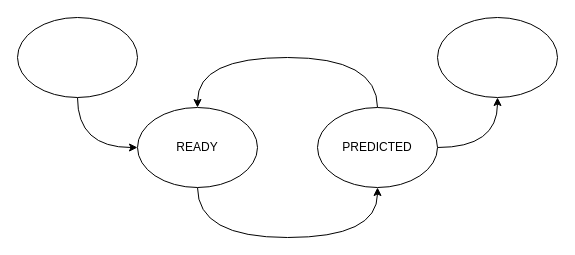
Some shapes in this 575 by 255 pixel diagram are drawn without their labels. Here are the shapes that lost their labels. From the top down, the box of each, then its label:
(16, 16, 138, 98): NEW
(436, 16, 558, 98): COMPLETED
